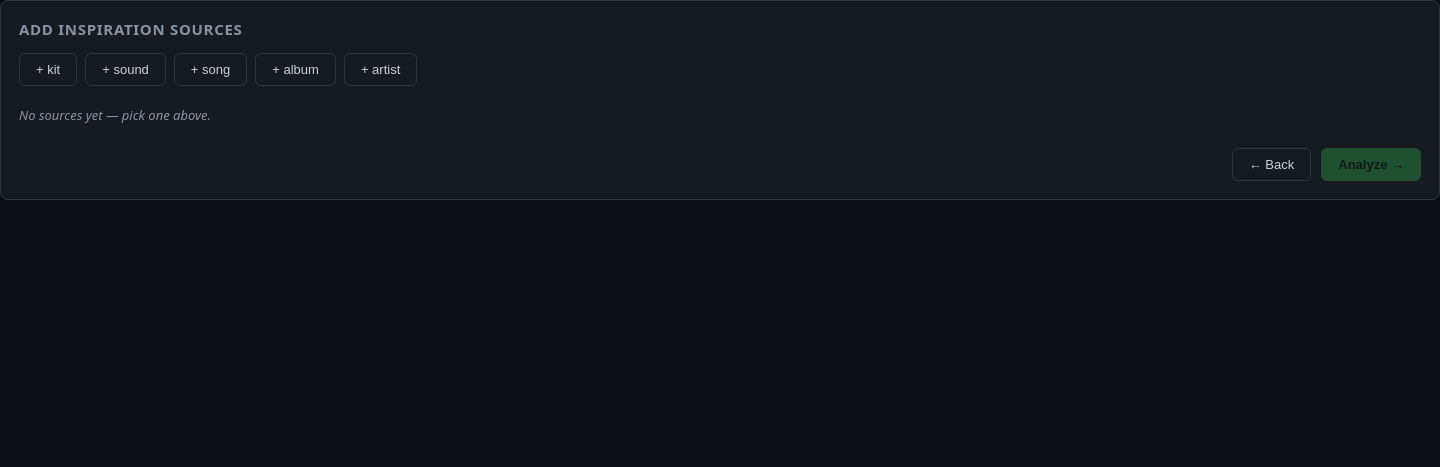
Test: AddStep — picker UI › opens a draft with reference mode when "+ artist" is clicked
Click the button with test id "wizard-add-artist".
click(381, 70)  # box [344, 53, 417, 86]
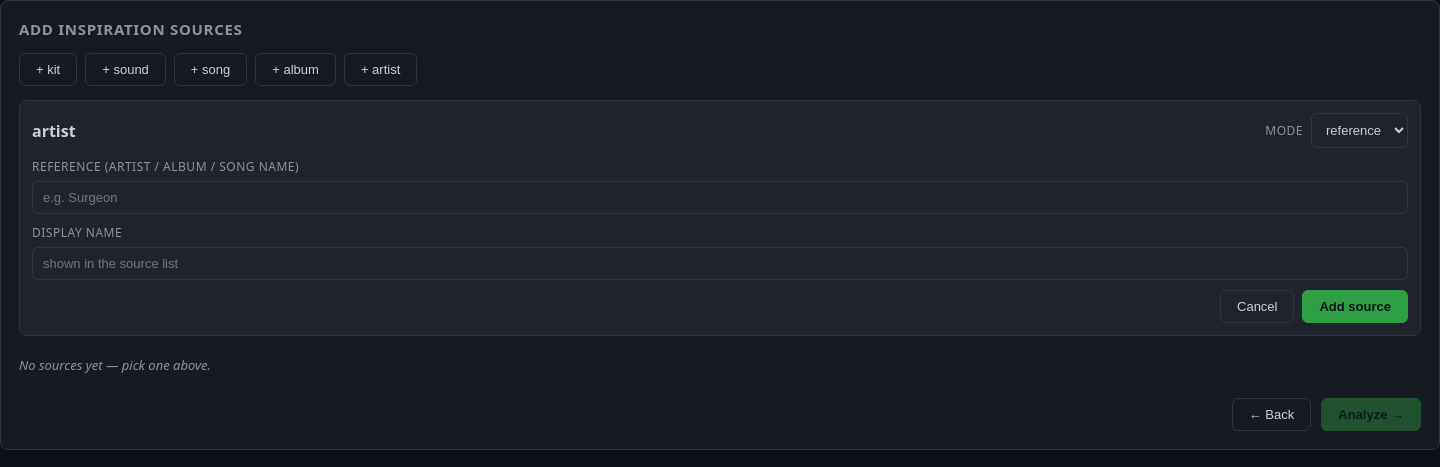
Result: the element with test id "wizard-draft" is shown at [19, 100, 1421, 336]
Result: the dropdown with test id "wizard-draft-mode" shows "reference" at [1311, 113, 1408, 148]
